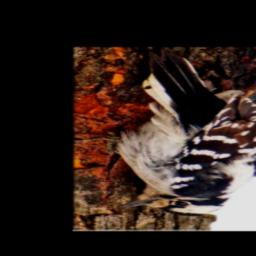Woodpecker: (75, 47, 256, 219)
